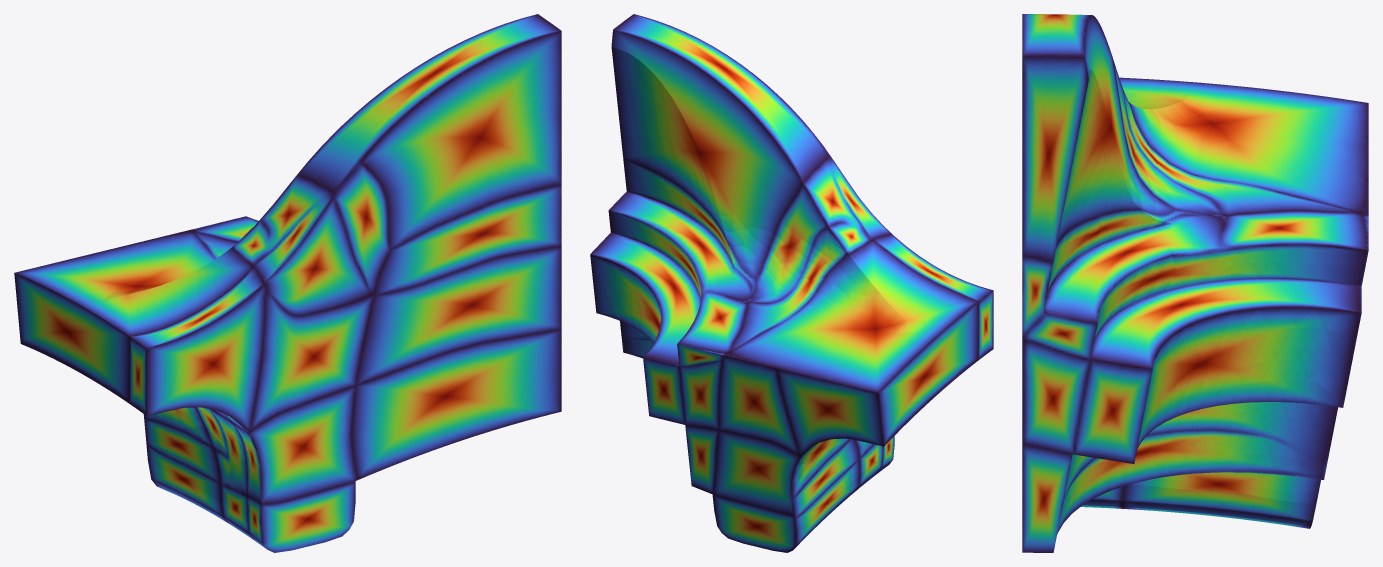
Rendered from gen3.glb.
3 renders of one model, left to right at view 1: azimuth 30°, elevation 25°; view 2: azimuth 150°, elevation 25°; view 3: azimuth 270°, elevation 25°, orthographic. The views are drawn at different scales.
Parts seen in each view (by area): view 1: Node; view 2: Node; view 3: Node.
Boxes of the visible parts, x1,y1,x2,y2 form: Node: [14, 14, 561, 552]; Node: [590, 14, 993, 552]; Node: [1022, 14, 1368, 552].
Bounding box in the file's own units: 4.83 × 5.24 × 2.68.
Materials: 1 (1 with a texture image).
